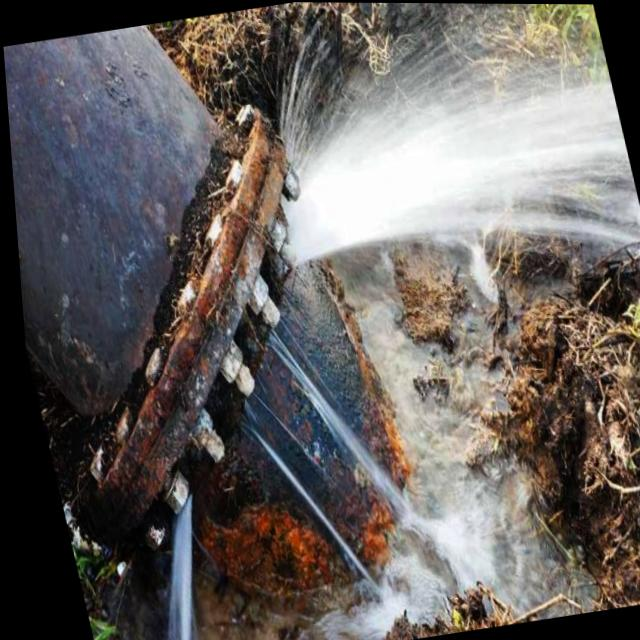leak: (273, 2, 640, 289)
